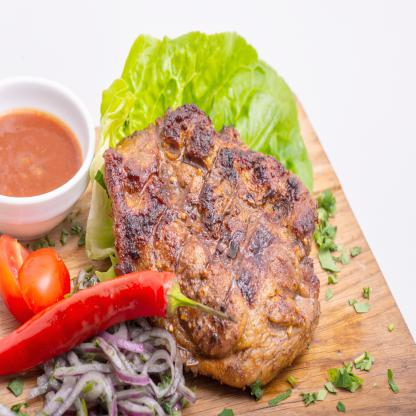Carne: (173, 116, 321, 373)
